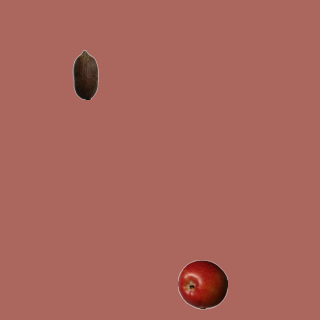Apple Braeburn: (177, 259, 227, 309)
Nut Pecan: (60, 49, 110, 99)
